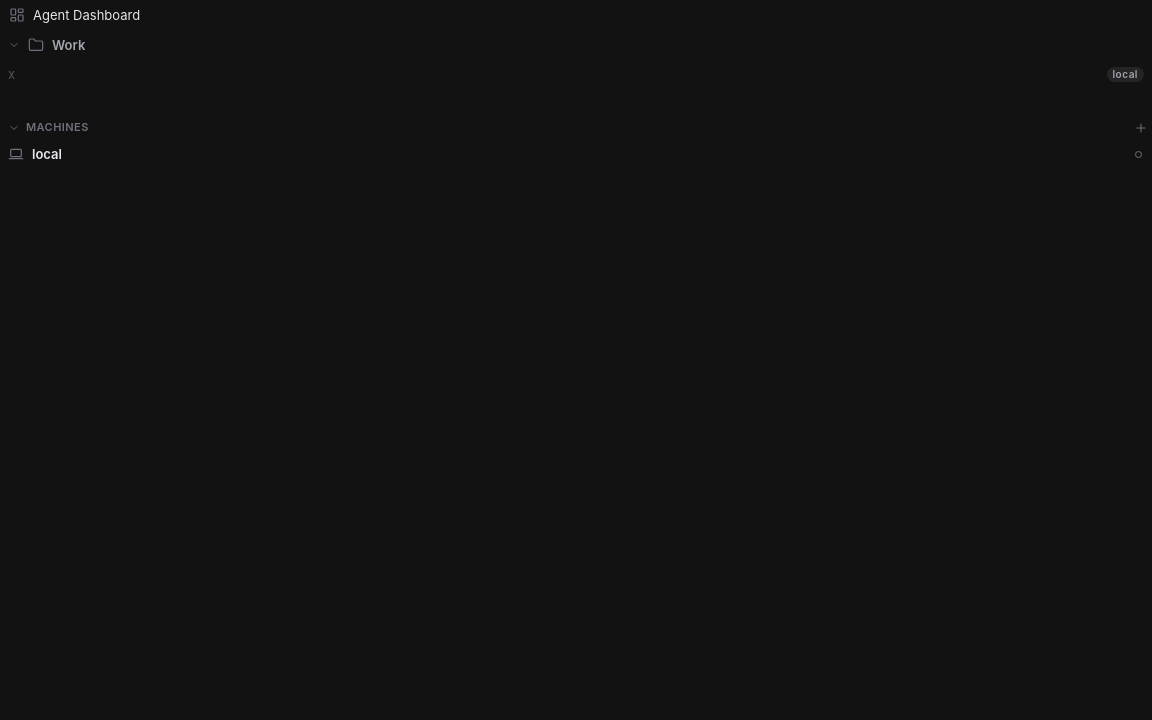
Scenario: Sidebar machine actions › offers New session with a machine picker on a group row
Right-click the button "Work".
right_click(69, 45)  # box [0,31,1151,59]
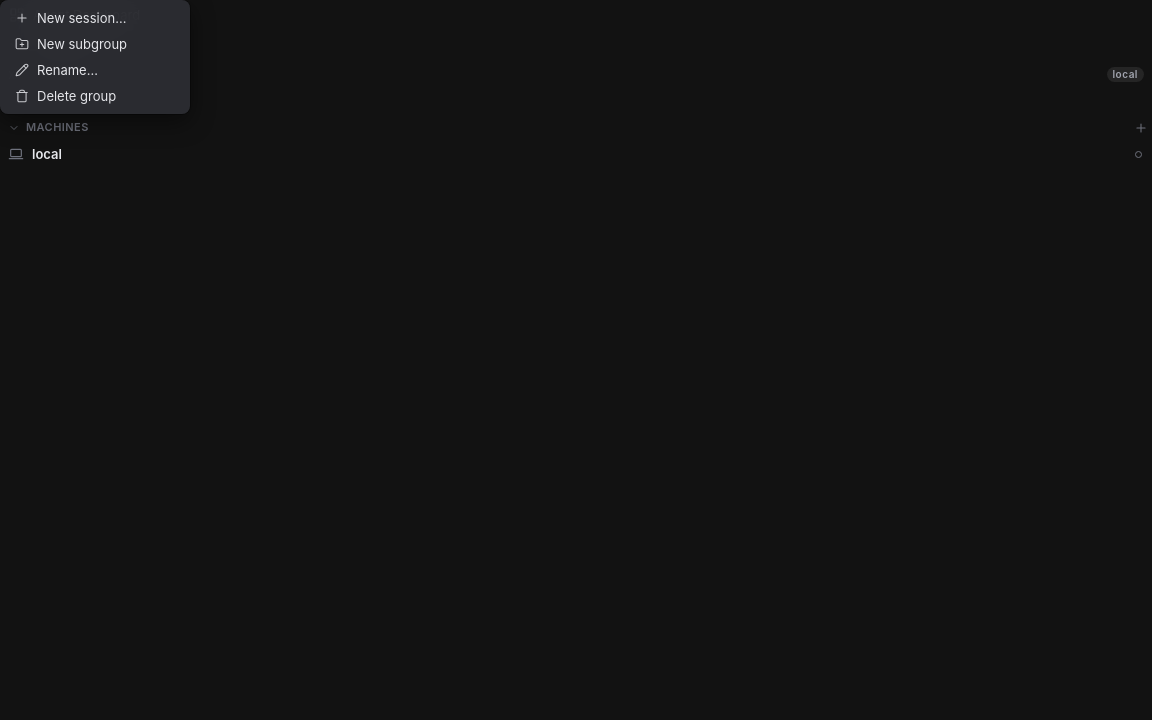
Click the menu item "New session…".
click(95, 18)  # box [5,5,185,31]
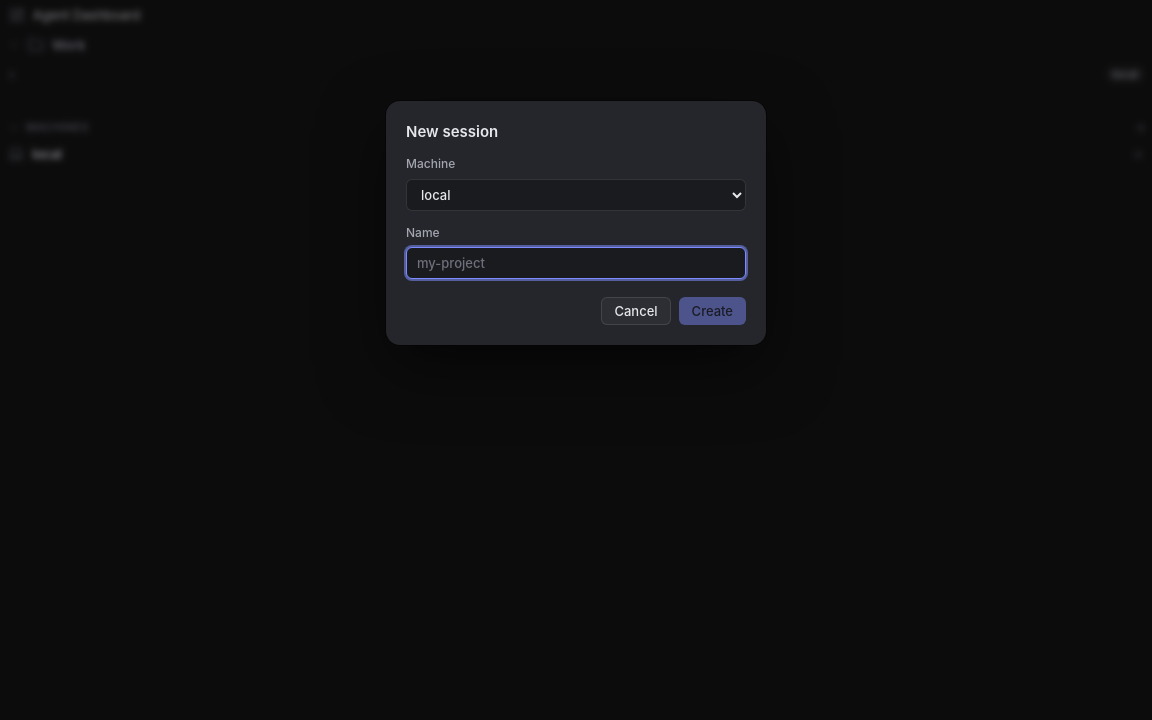
Expected: the dropdown labelled "Machine" is shown, [406,179,746,211]
